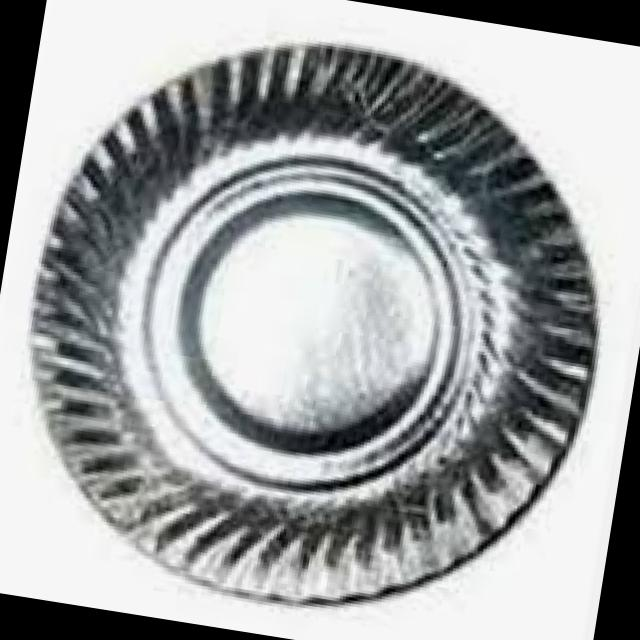kim_loai: (26, 42, 599, 612)
